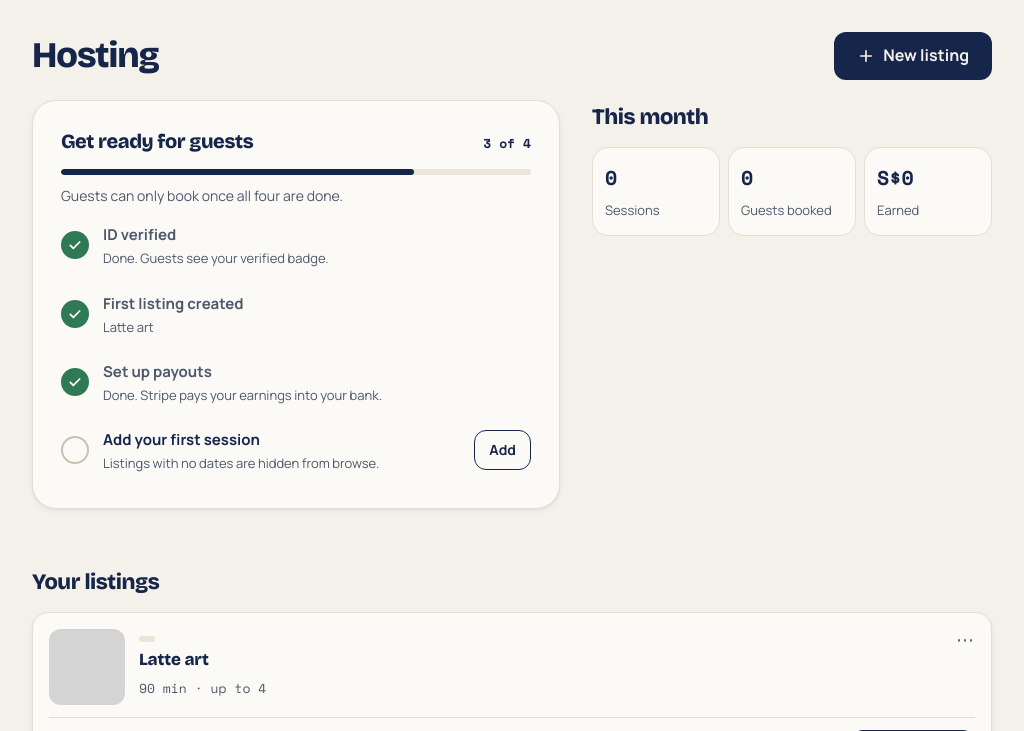
it: Dashboard listings › asks only to delete when the listing has no upcoming sessions
The image size is (1024, 731).
Expected: the heading "Hosting" is shown, [32,36,159,76]
Click the button named "More actions". click: (965, 639)
box: [947,621,983,657]
(page scrolled)
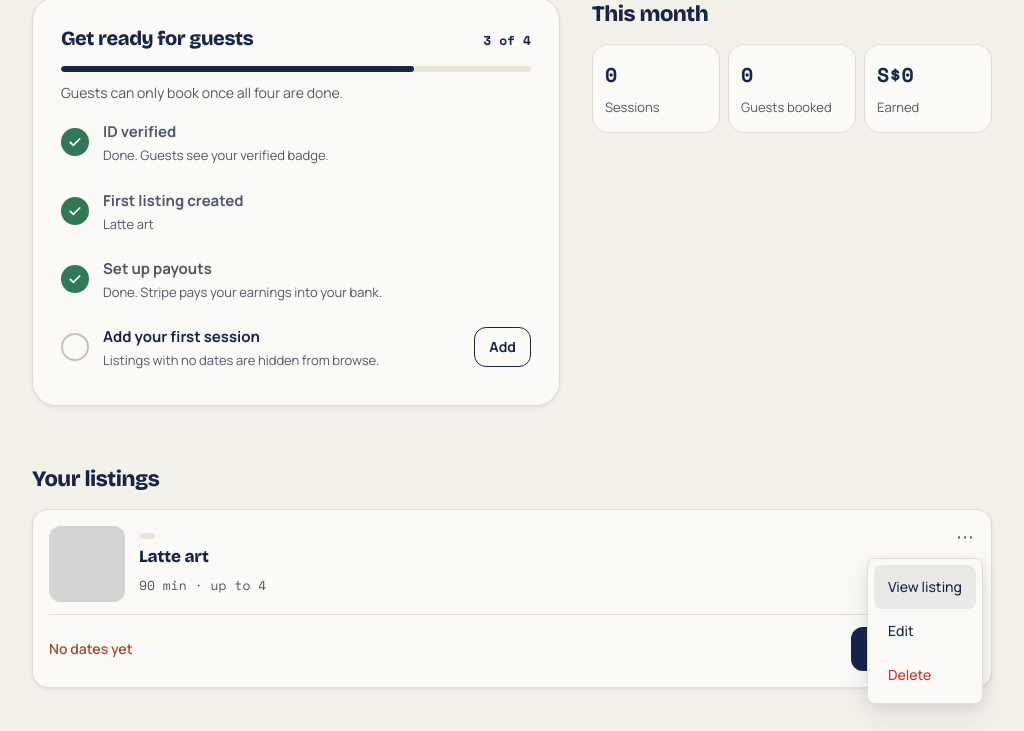
Click the menu item "Delete". click: (925, 675)
box: [874,653,976,697]
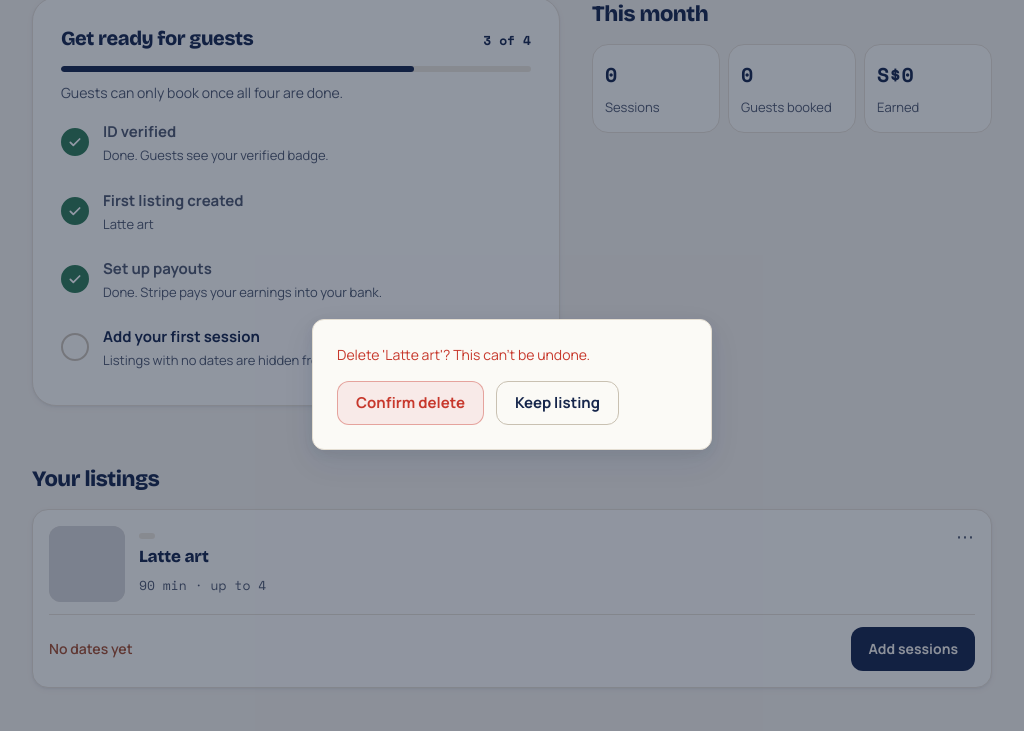
Expected: the dialog does not show "will be removed too", [312,318,712,450]
Now the dialog shows "Delete 'Latte art'? This can't be undone.", box [337,344,590,364]
